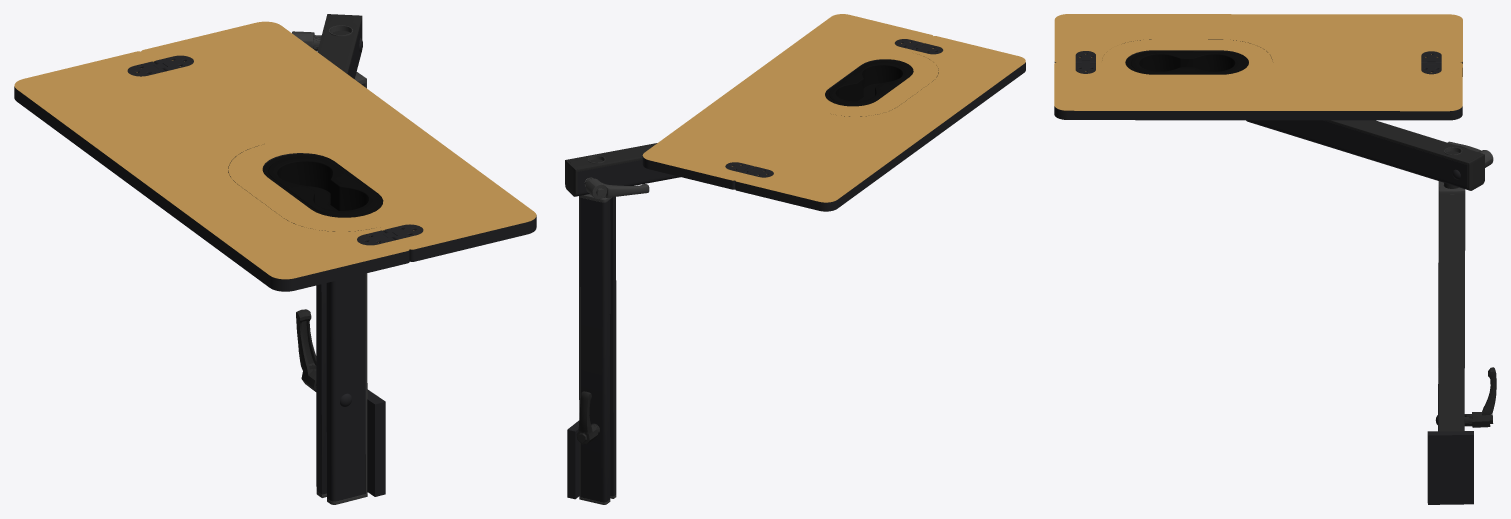
Rendered from lagun-table-with-cup-holder.glb.
3 renders of one model, left to right at view 1: azimuth 30°, elevation 25°; view 2: azimuth 150°, elevation 25°; view 3: azimuth 270°, elevation 25°, orthographic. The views are drawn at different scales.
Parts seen in each view (by area): view 1: Circle.018; view 2: Circle.018; view 3: Circle.018.
Boxes of the visible parts, x1,y1,x2,y2 form: Circle.018: [14, 14, 536, 504]; Circle.018: [565, 14, 1025, 504]; Circle.018: [1054, 14, 1496, 504].
Size of the model in its own units: 0.4581 by 0.5909 by 0.6501.
